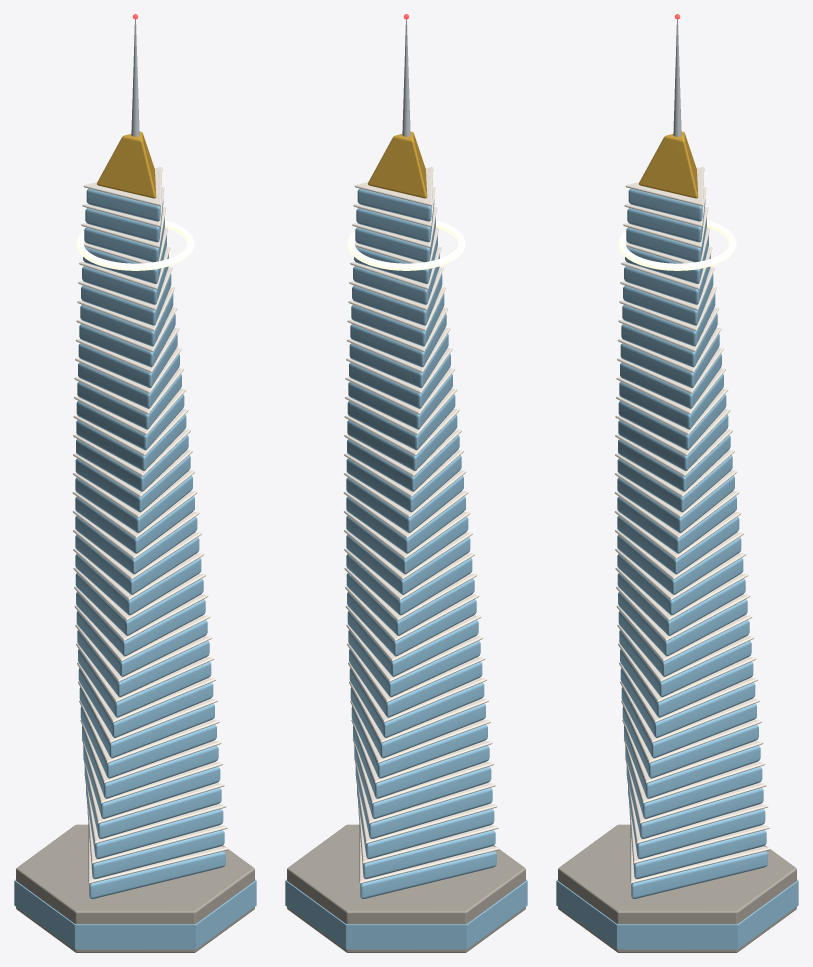
File: supertall.glb
The picture shows the model from 3 angles, left to right: view 1: azimuth 30°, elevation 25°; view 2: azimuth 150°, elevation 25°; view 3: azimuth 270°, elevation 25°; orthographic projection.
Parts seen in each view (by area): view 1: supertall; view 2: supertall; view 3: supertall.
Boxes of the visible parts, x1,y1,x2,y2 form: supertall: (14, 14, 256, 952); supertall: (285, 14, 527, 952); supertall: (556, 14, 798, 952).
Size of the model in its own units: 45.55 by 214 by 52.55.
Materials: 1 (1 with a texture image).
